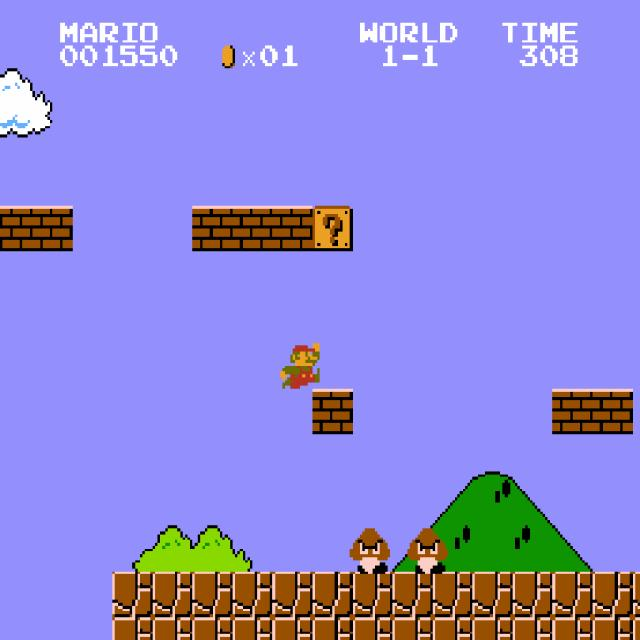brick_block: (32, 206, 73, 251), (192, 206, 233, 251), (232, 206, 273, 251), (272, 206, 313, 251), (312, 389, 353, 434), (552, 389, 593, 434), (592, 389, 633, 434), (0, 205, 32, 251)
goomba: (347, 526, 390, 574), (405, 526, 448, 574)
little_mario: (277, 340, 320, 389)
mystery_block: (312, 206, 353, 251)
undestructible_block: (112, 572, 153, 617), (152, 572, 193, 617), (192, 572, 233, 617), (232, 572, 273, 617), (272, 572, 313, 617), (312, 572, 353, 617), (352, 572, 393, 617), (392, 572, 433, 617), (432, 572, 473, 617), (472, 572, 513, 617), (512, 572, 553, 617), (552, 572, 593, 617), (592, 572, 633, 617), (112, 617, 153, 640), (152, 617, 193, 640), (192, 617, 233, 640), (232, 617, 273, 640), (272, 617, 313, 640), (312, 617, 353, 640), (352, 617, 393, 640), (392, 617, 433, 640), (432, 617, 473, 640), (472, 617, 513, 640), (512, 617, 553, 640), (552, 617, 593, 640), (592, 617, 633, 640), (633, 572, 640, 617), (633, 617, 640, 640)
